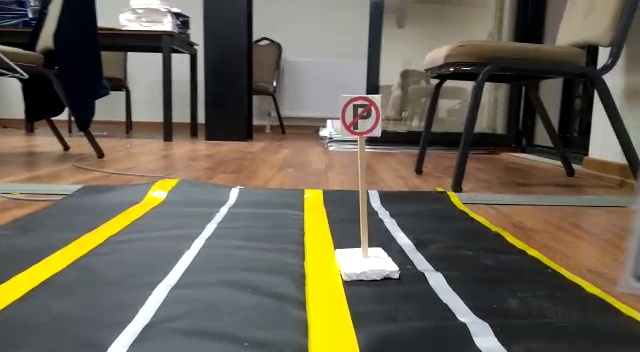park_yapilmaz: (340, 94, 381, 135)
